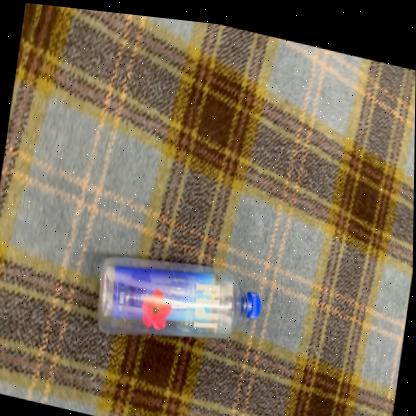Plastic: (97, 254, 260, 333)
